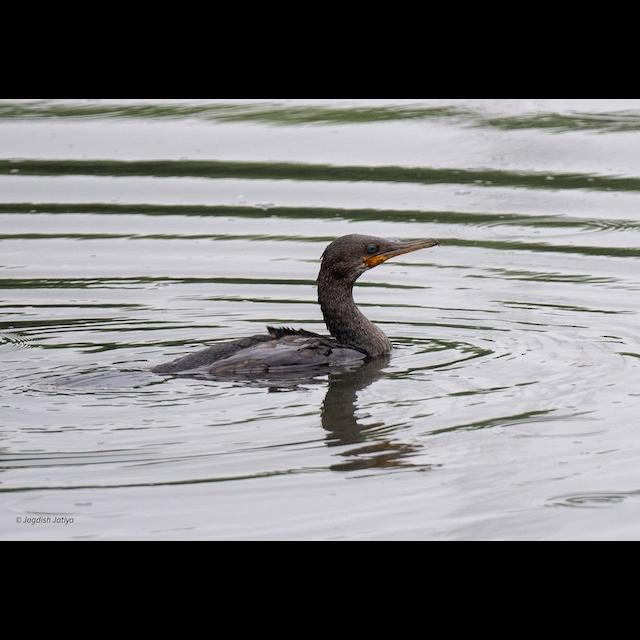cormorant: (166, 229, 440, 395)
